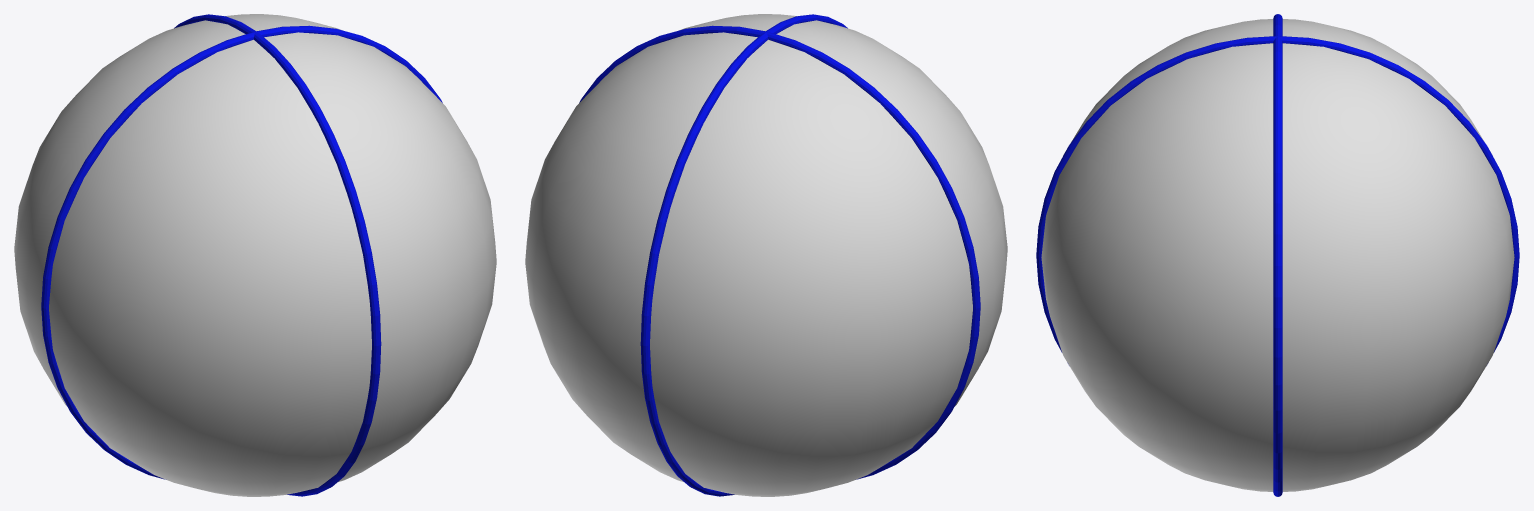
The model's file is atom.fbx.
3 renders of one model, left to right at view 1: azimuth 30°, elevation 25°; view 2: azimuth 150°, elevation 25°; view 3: azimuth 270°, elevation 25°, orthographic. The views are drawn at different scales.
Visible parts, largest first — view 1: Sphere.002; view 2: Sphere.002; view 3: Sphere.002.
Boxes of the visible parts, bbox=[...] form: Sphere.002: bbox=[14, 14, 496, 496]; Sphere.002: bbox=[525, 14, 1007, 496]; Sphere.002: bbox=[1036, 14, 1519, 496].
Size of the model in its own units: 255 by 255 by 255.
